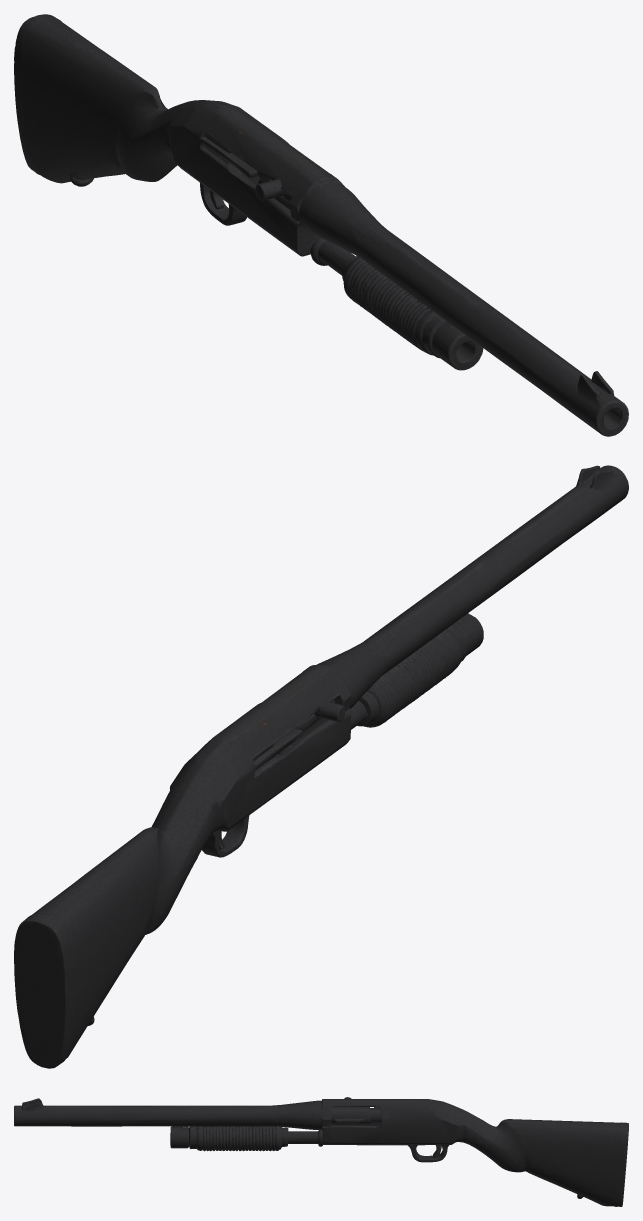
Rendered from doze.glb.
3 views of the same model, one above another, from view 1: azimuth 30°, elevation 25°; view 2: azimuth 150°, elevation 25°; view 3: azimuth 270°, elevation 25° (orthographic). The views are drawn at different scales.
Parts seen in each view (by area): view 1: corpo, bomba; view 2: corpo, bomba; view 3: corpo, bomba.
Boxes of the visible parts, x1,y1,x2,y2 form: corpo: [14, 14, 628, 436]; bomba: [342, 256, 483, 370]; corpo: [14, 465, 628, 1068]; bomba: [357, 613, 483, 727]; corpo: [14, 1097, 628, 1206]; bomba: [170, 1126, 289, 1151].
Size of the model in its own units: 0.0696 by 0.1893 by 1.
1 material, 1 textured.
